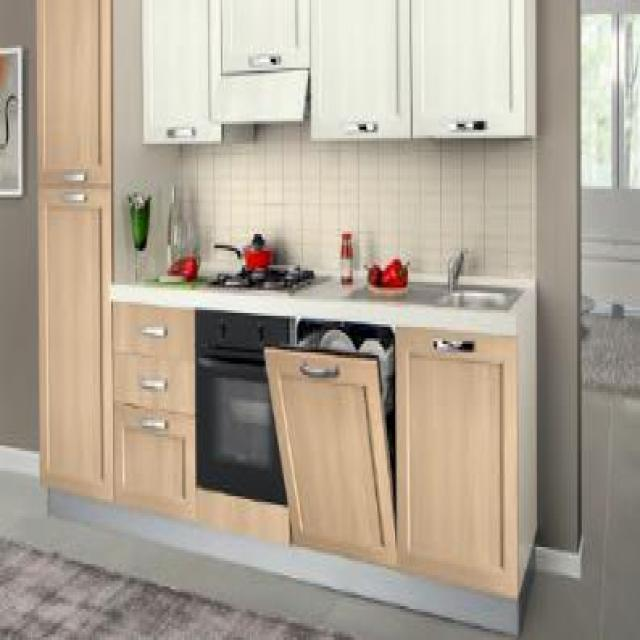dishwasher: (262, 310, 394, 570)
